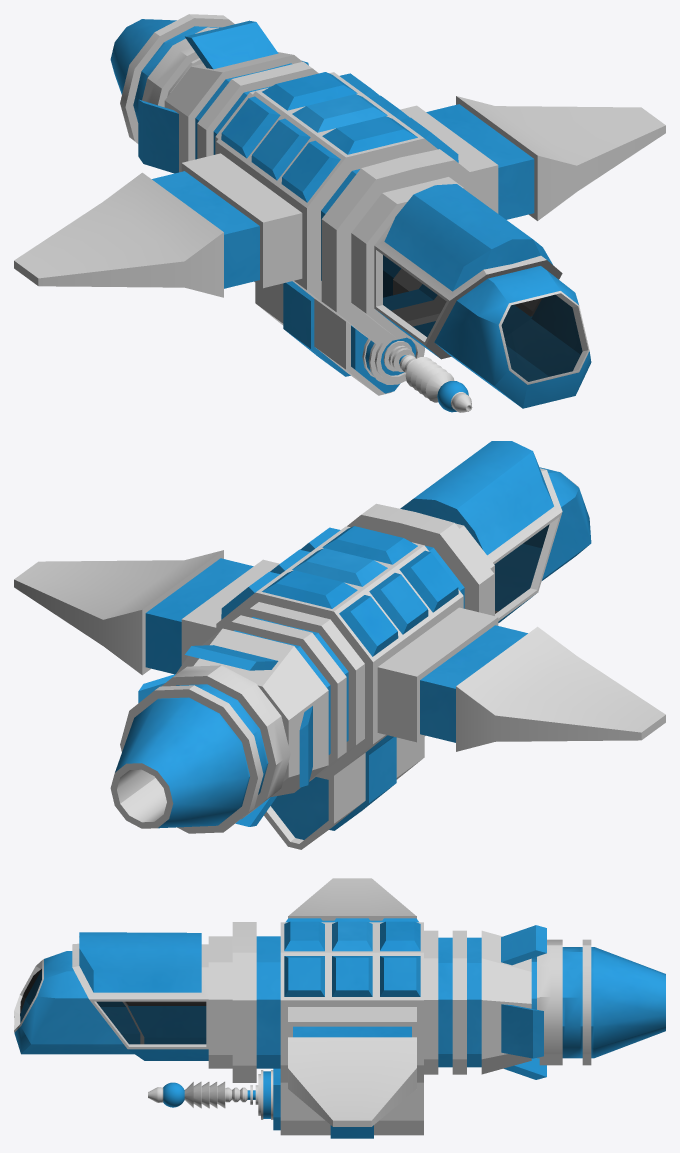
The model's file is BCE.fbx.
3 renders of one model, top to bottom at view 1: azimuth 30°, elevation 25°; view 2: azimuth 150°, elevation 25°; view 3: azimuth 270°, elevation 25°, orthographic. The views are drawn at different scales.
Parts seen in each view (by area): view 1: BCE; view 2: BCE; view 3: BCE.
Part boxes in pixels (x1,y1,x2,y2): BCE: (14,14,665,412); BCE: (14,441,665,849); BCE: (14,878,665,1138).
Size of the model in its own units: 8 by 3.15 by 9.09.
